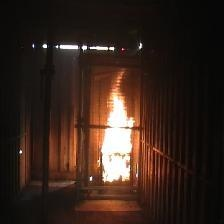fire: (96, 81, 136, 185)
